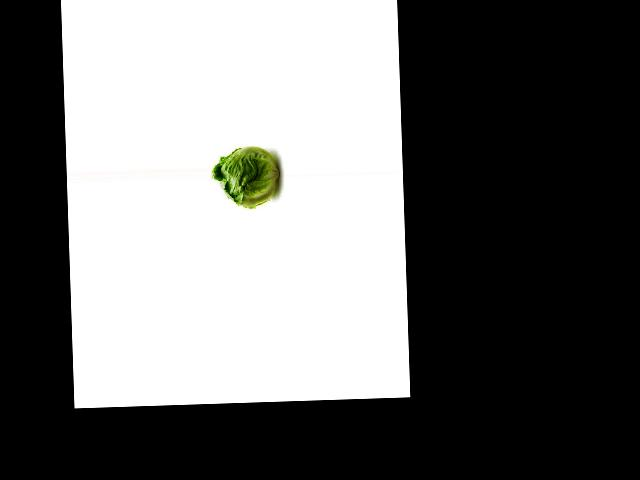lettuce: (211, 143, 283, 215)
